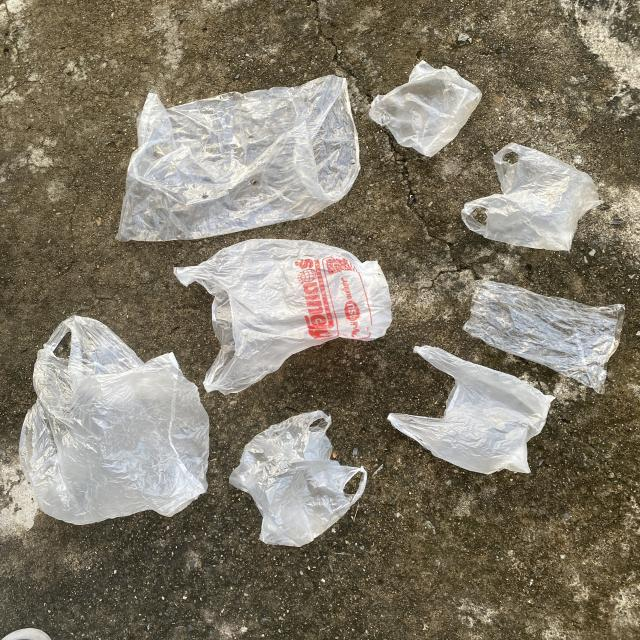Single-layer Plastic: (116, 75, 360, 241), (19, 316, 209, 525), (174, 239, 391, 394), (388, 346, 554, 474), (229, 410, 368, 546), (464, 280, 625, 394), (461, 142, 600, 250), (369, 61, 481, 156)
